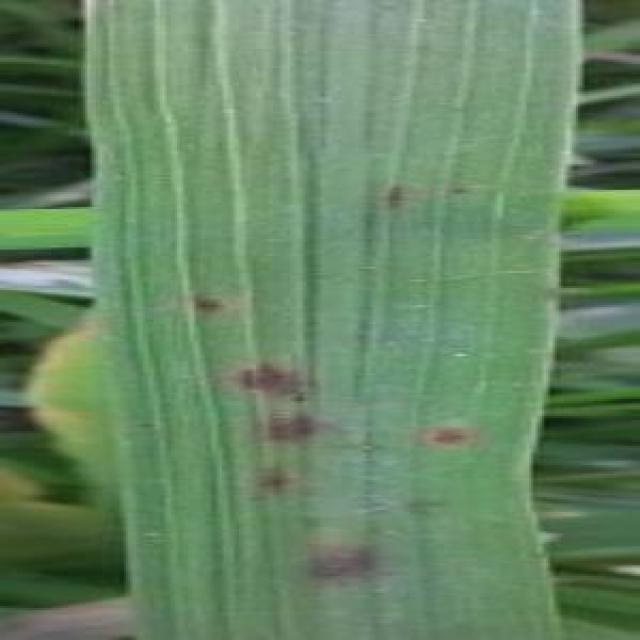brownspots: (226, 340, 322, 394), (307, 535, 386, 589), (248, 401, 328, 446), (254, 454, 308, 500), (428, 410, 484, 454), (183, 286, 230, 322), (377, 179, 414, 218)
